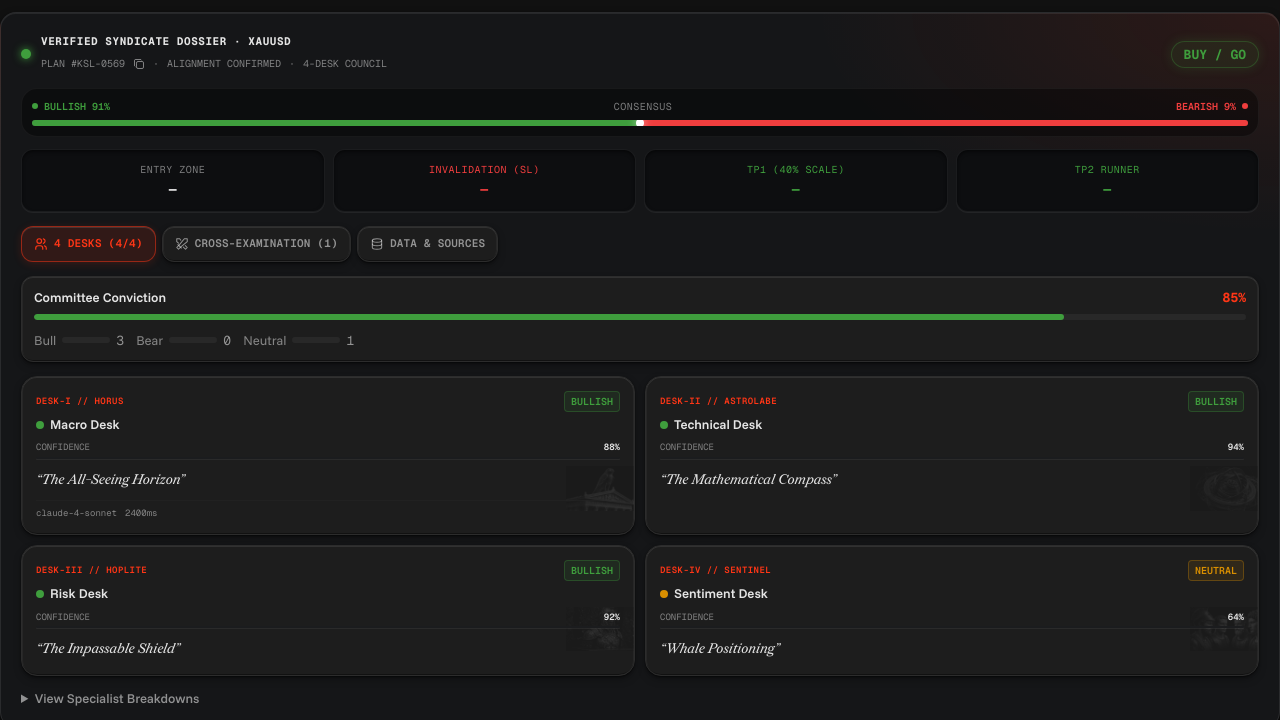
it: SyndicateDossierCard › renders the cross-examination ledger with challenged status and revised confidence
The image size is (1280, 720).
What coordinates should you click on to do the following:
click the tab "Cross-Examination (1)"
I would click on:
 (256, 244)
Its box is top-left (162, 226), bottom-right (351, 262).
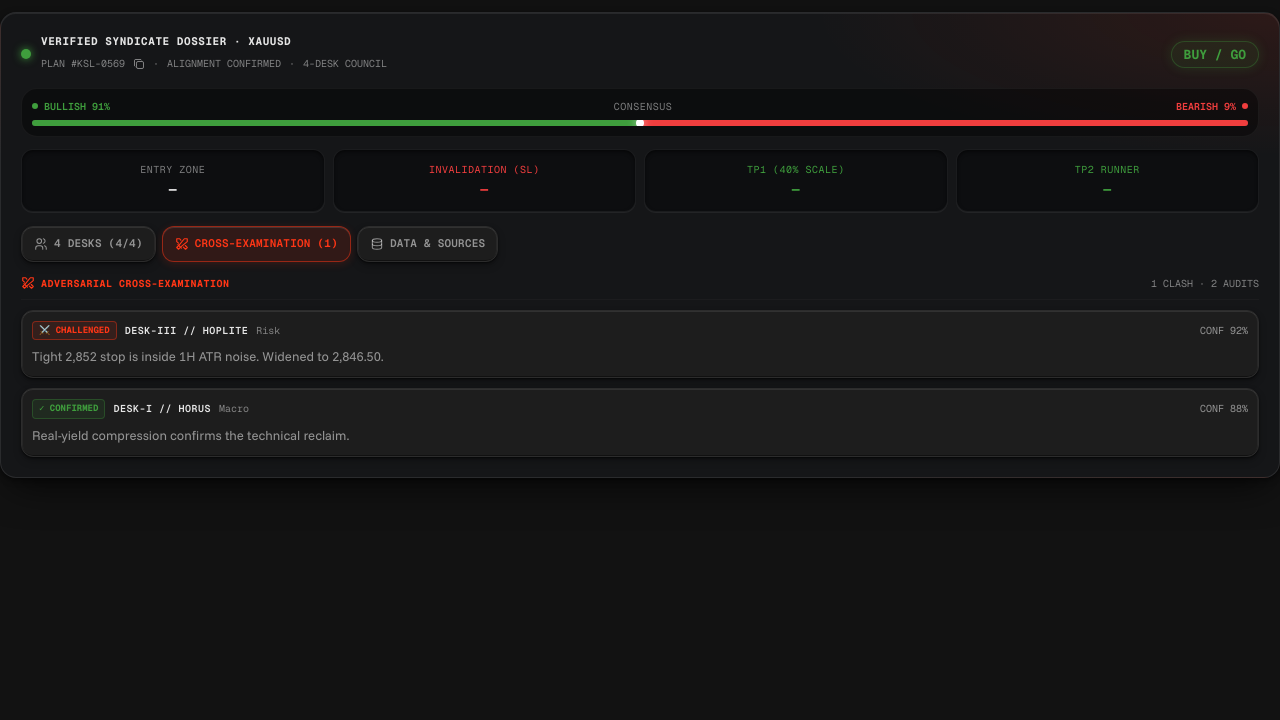
Expected: the text "⚔️ CHALLENGED" is shown, top-left (32, 320), bottom-right (117, 340)
Expected: the text "✓ CONFIRMED" is shown, top-left (32, 399), bottom-right (105, 419)
Expected: the text "CONF 92%" is shown, top-left (1200, 323), bottom-right (1248, 338)
